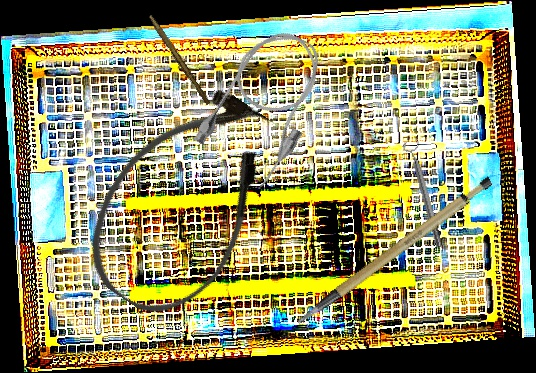Cannula: (63, 67, 307, 336), (187, 16, 344, 195)
Fixation Ring: (401, 138, 448, 250)
Scalpel Handle: (277, 172, 509, 326), (145, 14, 213, 106)
